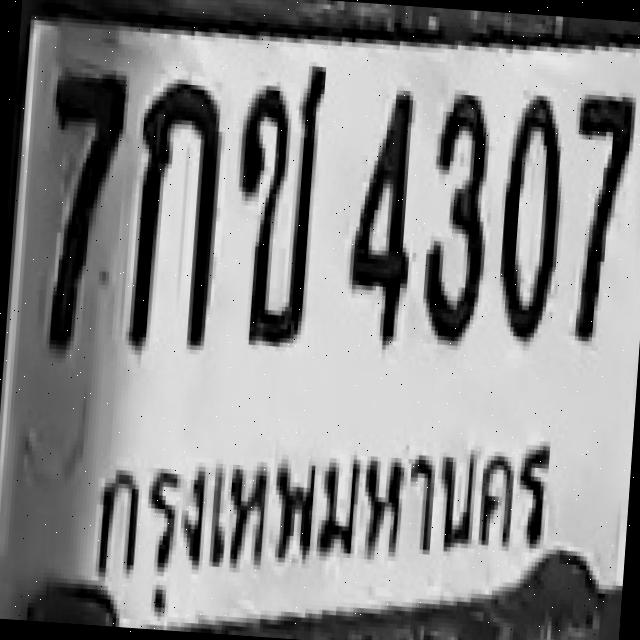0: (492, 92, 568, 340)
10GorGai: (124, 77, 225, 350)
19ChorChang: (222, 59, 328, 346)
3: (416, 88, 492, 342)
4: (341, 82, 420, 342)
7: (36, 68, 126, 346), (561, 89, 636, 338), (42, 68, 126, 261)
